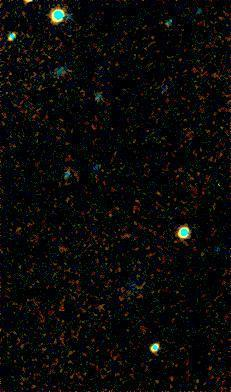star: (97, 197, 127, 227)
